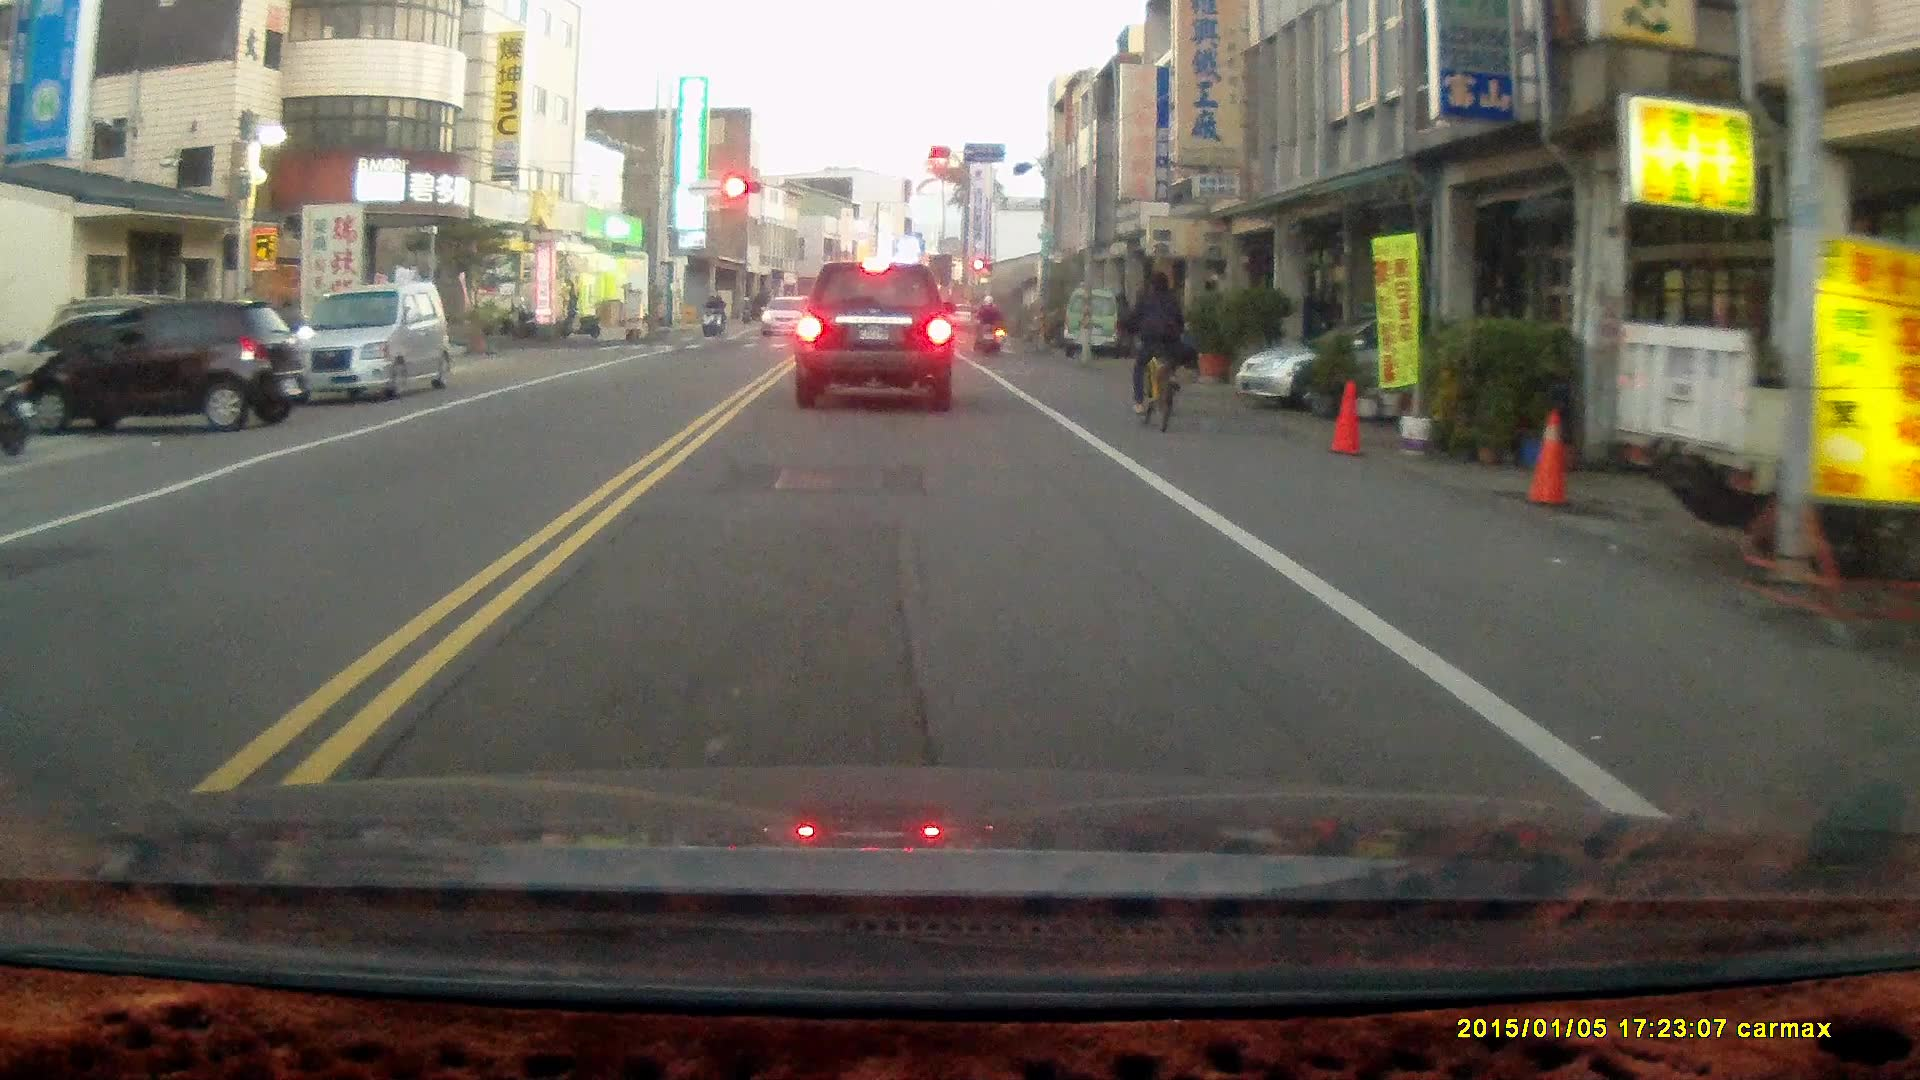rider: (1123, 267, 1187, 432), (969, 292, 1001, 357), (697, 291, 721, 339)
vehicle: (13, 297, 300, 438), (1230, 317, 1516, 420), (792, 263, 955, 414), (282, 283, 453, 406), (1061, 292, 1127, 363)
